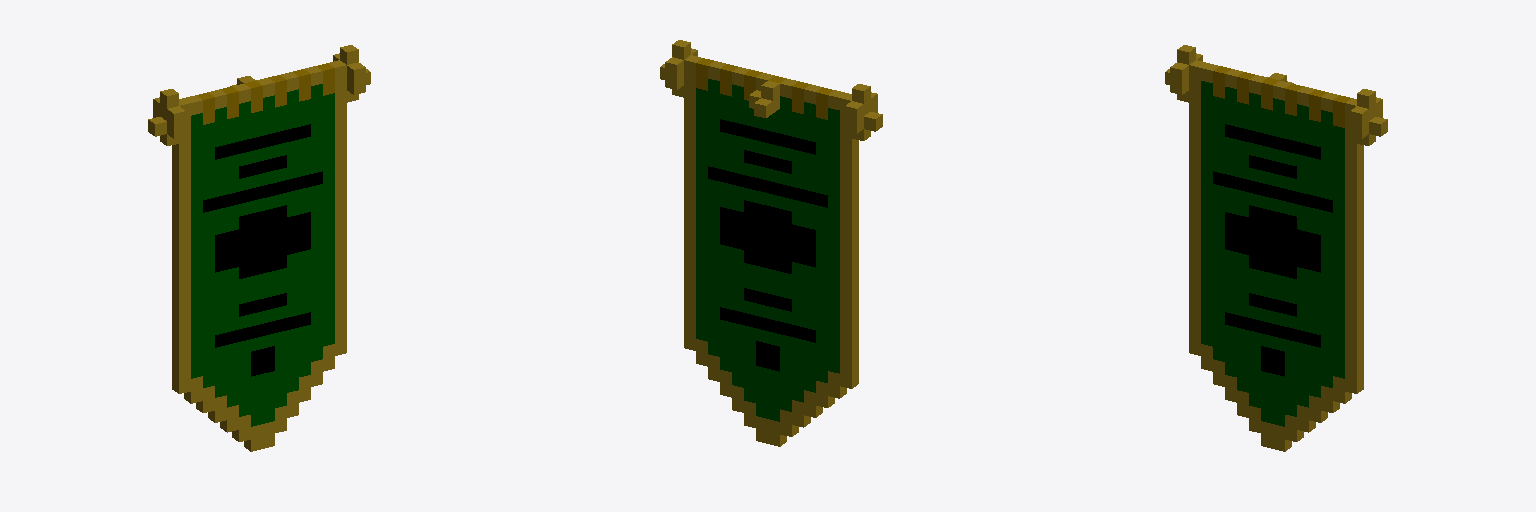
The picture shows the model from 3 angles: view 1: azimuth 30°, elevation 25°; view 2: azimuth 150°, elevation 25°; view 3: azimuth 330°, elevation 25°; orthographic projection.
Visible parts, largest first — view 1: Model; view 2: Model; view 3: Model.
Part boxes in pixels (left/top/right/bottom): Model: left=148, top=45, right=370, bottom=451; Model: left=660, top=40, right=882, bottom=446; Model: left=1165, top=45, right=1387, bottom=451.
Bounding box in the file's own units: 19.2 × 32 × 4.27.
1 materials, 1 textured.